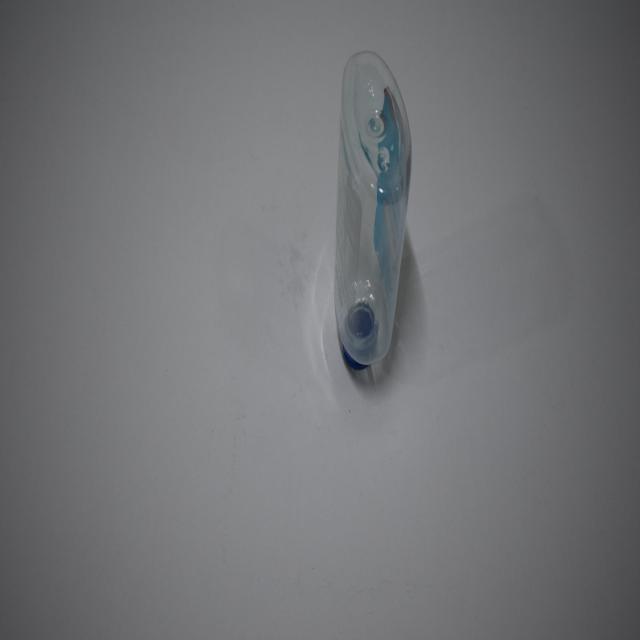bottle: (322, 46, 419, 397)
